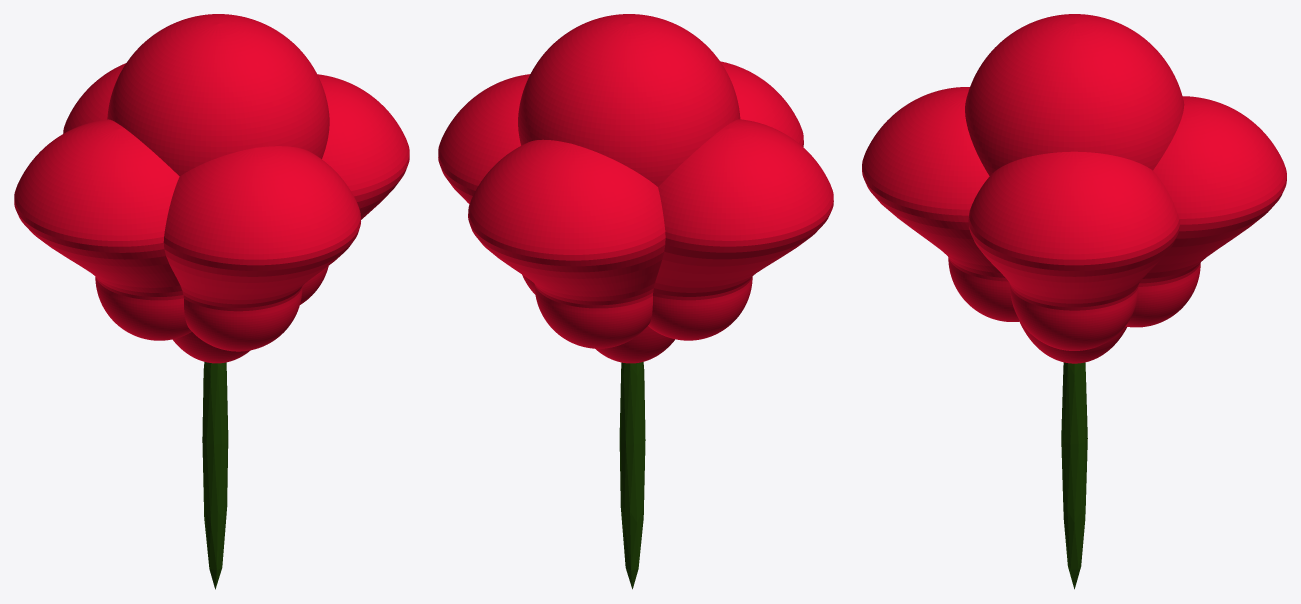
The model's file is Tree3_1.fbx.
The picture shows the model from 3 angles, left to right: view 1: azimuth 30°, elevation 25°; view 2: azimuth 150°, elevation 25°; view 3: azimuth 270°, elevation 25°; orthographic projection.
Visible parts, largest first — view 1: Esfera UV.002, Esfera icosaédrica; view 2: Esfera UV.002, Esfera icosaédrica; view 3: Esfera UV.002, Esfera icosaédrica.
Part boxes in pixels (left/top/right/bottom): Esfera UV.002: left=14, top=14, right=409, bottom=363; Esfera icosaédrica: left=202, top=362, right=228, bottom=589; Esfera UV.002: left=438, top=14, right=833, bottom=363; Esfera icosaédrica: left=619, top=362, right=645, bottom=589; Esfera UV.002: left=862, top=14, right=1286, bottom=363; Esfera icosaédrica: left=1061, top=362, right=1087, bottom=589.
Bounding box in the file's own units: 3203 × 4709 × 3194.
